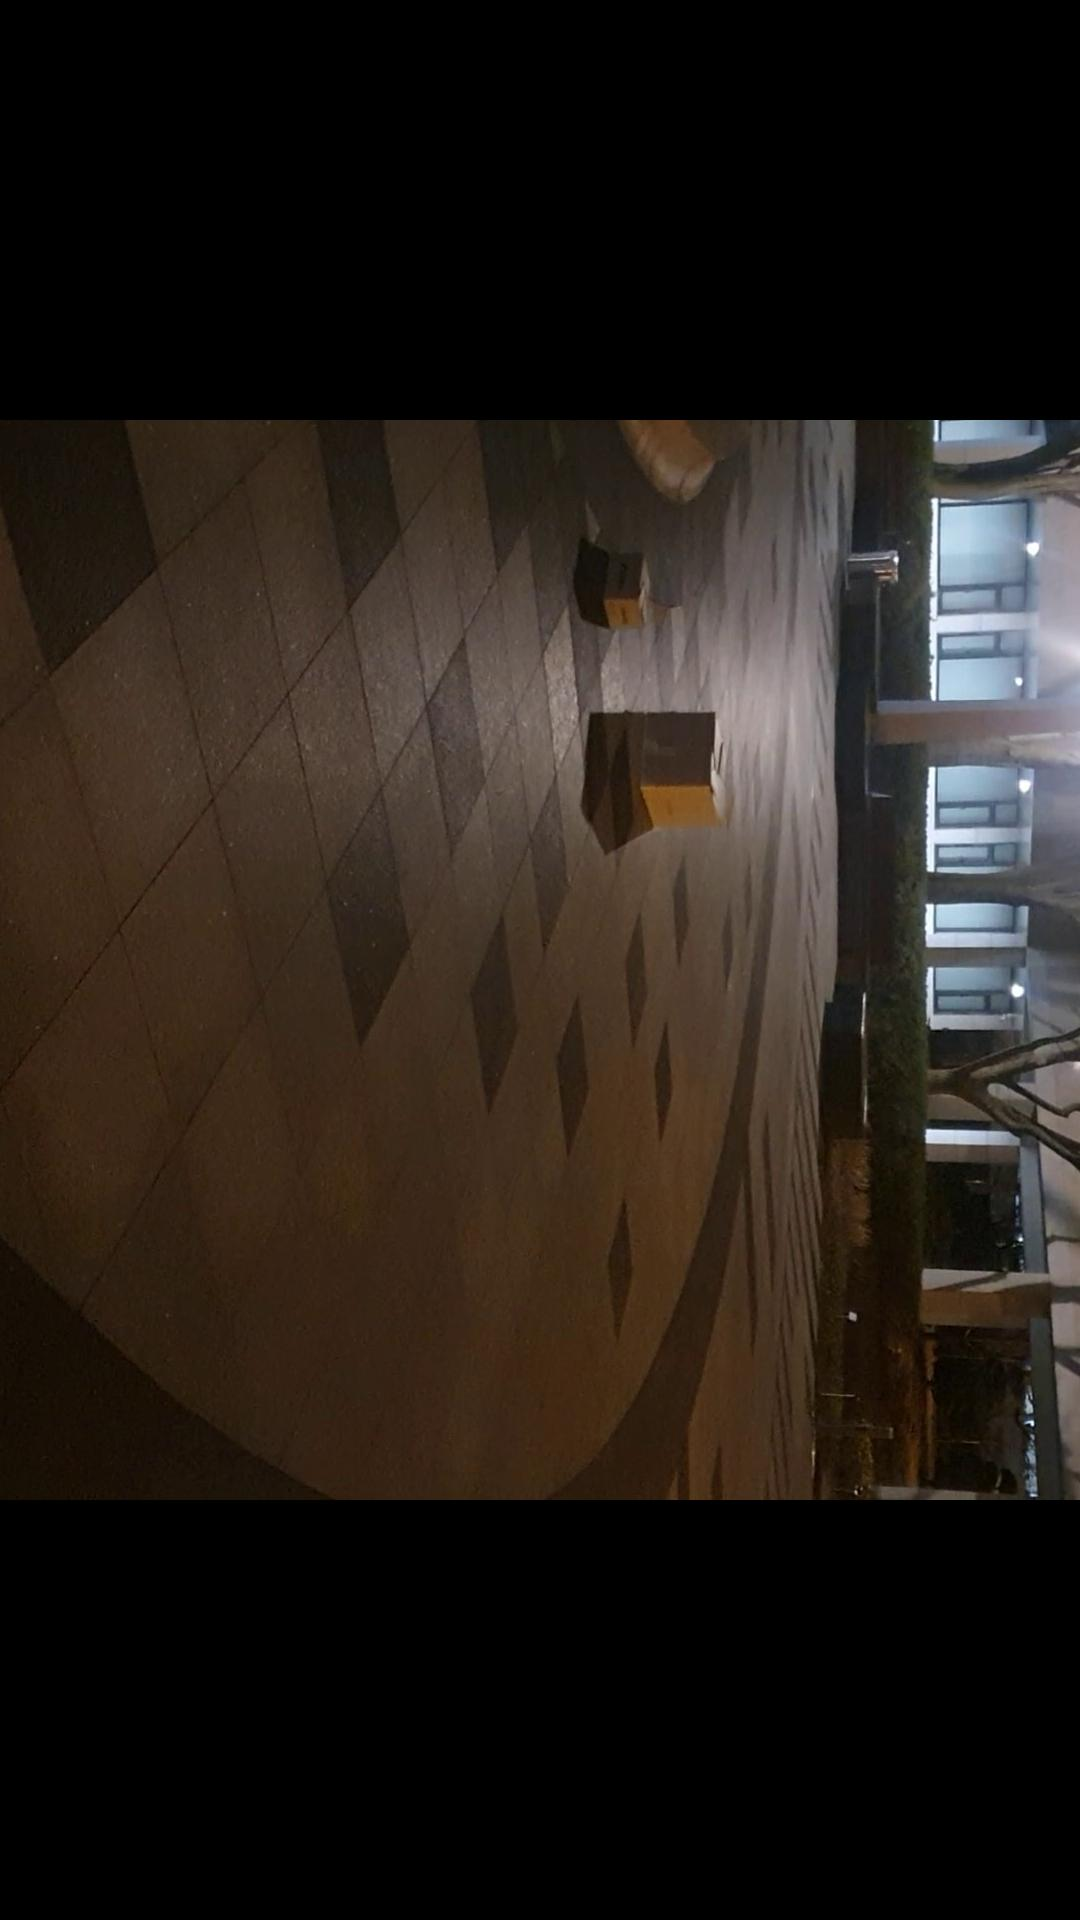Box: (618, 708, 735, 837), (589, 549, 675, 637)
